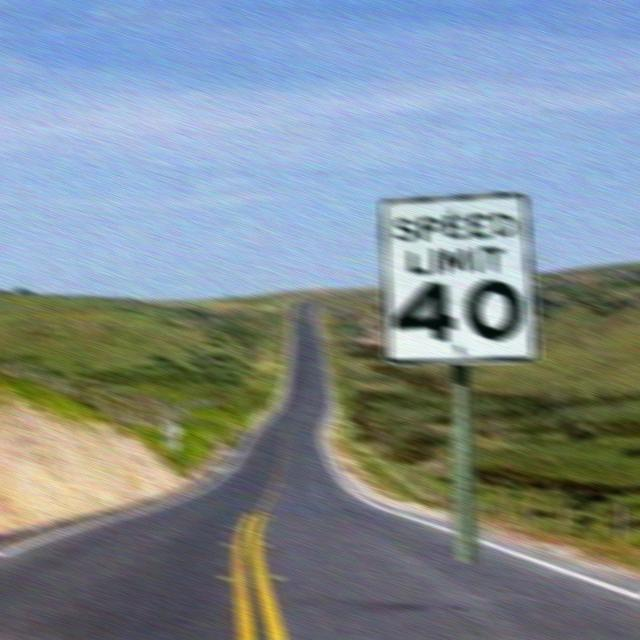speedLimit40: (377, 190, 540, 562)
